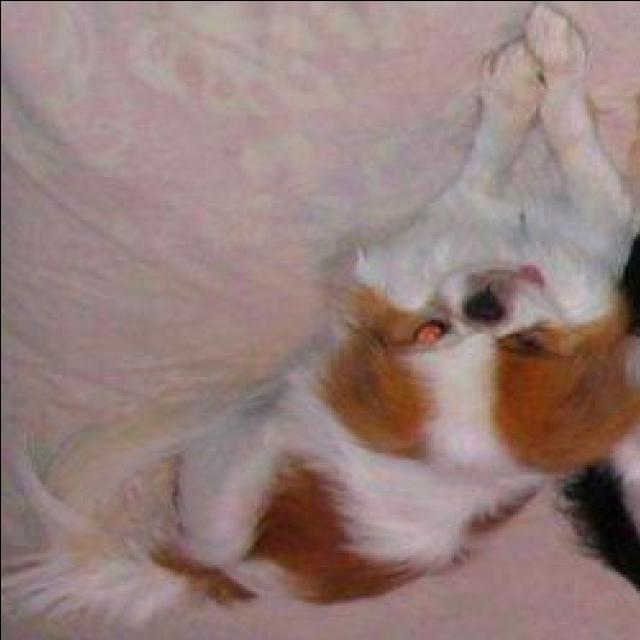husky: (0, 3, 637, 626)
